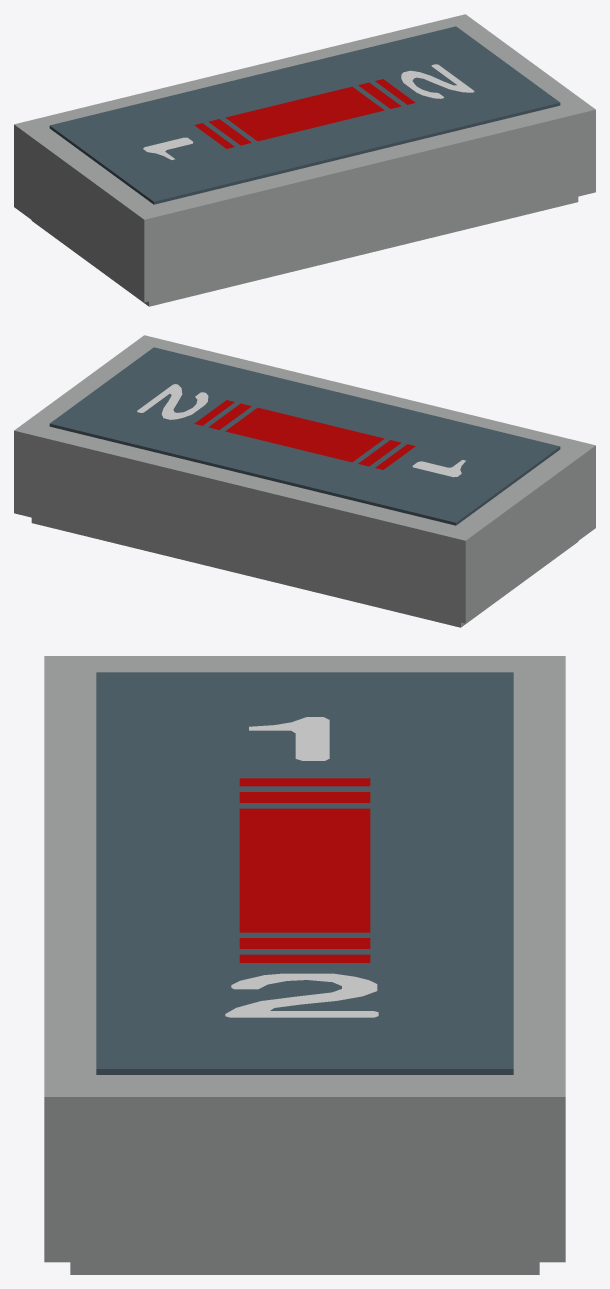
3 renders of one model, top to bottom at view 1: azimuth 30°, elevation 25°; view 2: azimuth 150°, elevation 25°; view 3: azimuth 270°, elevation 25°, orthographic. The views are drawn at different scales.
Visible parts, largest first — view 1: world; view 2: world; view 3: world.
Part boxes in pixels (bbox=[...]): world: bbox=[14, 14, 595, 306]; world: bbox=[14, 335, 595, 627]; world: bbox=[44, 656, 565, 1274].
Size of the model in its own units: 0.016 by 0.0033 by 0.008.
